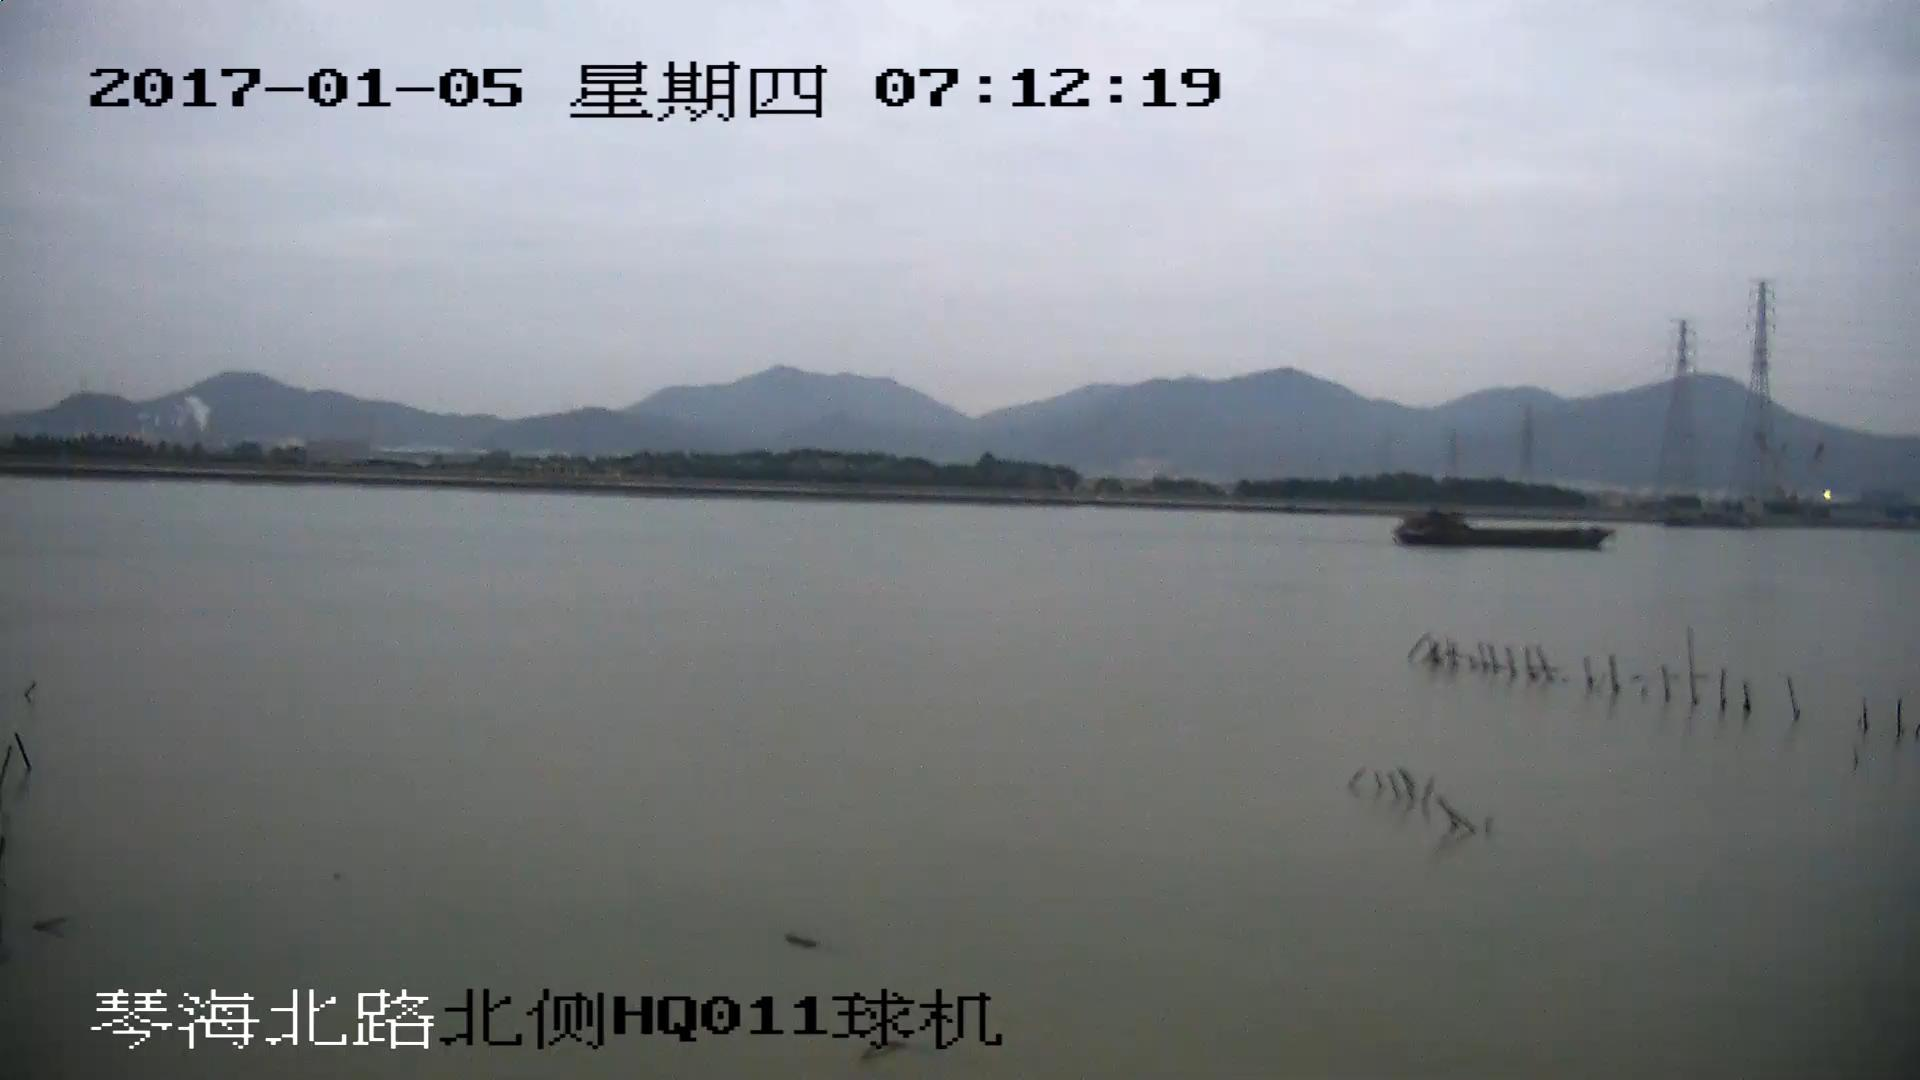Ship: (1393, 512, 1611, 555)
